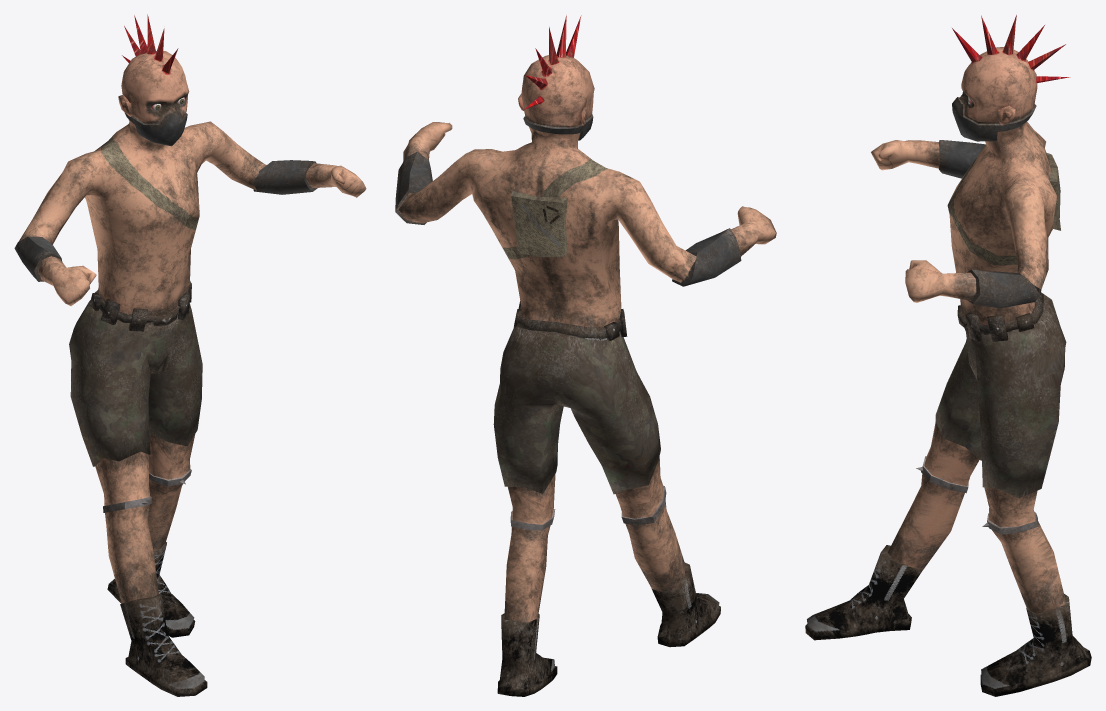
The model's file is Anim_ganar_1_npc2.0040.obj.
The picture shows the model from 3 angles, left to right: view 1: azimuth 30°, elevation 25°; view 2: azimuth 150°, elevation 25°; view 3: azimuth 270°, elevation 25°; orthographic projection. The views are drawn at different scales.
Parts seen in each view (by area): view 1: polySurface1; view 2: polySurface1; view 3: polySurface1.
Part boxes in pixels (bbox=[...]): polySurface1: bbox=[14, 14, 366, 696]; polySurface1: bbox=[395, 15, 776, 696]; polySurface1: bbox=[805, 15, 1091, 696].
Size of the model in its own units: 5.57 by 10.24 by 4.
